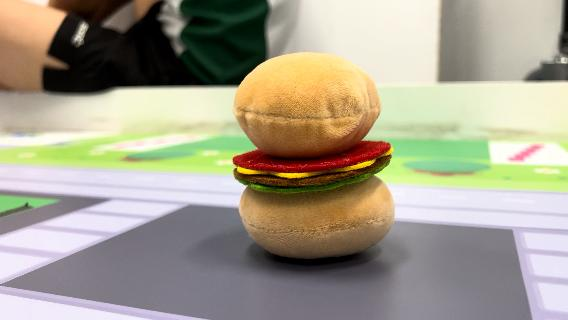burger: (227, 48, 401, 262)
